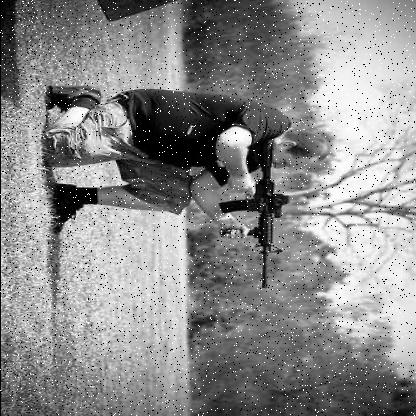rifle: (214, 129, 326, 306)
